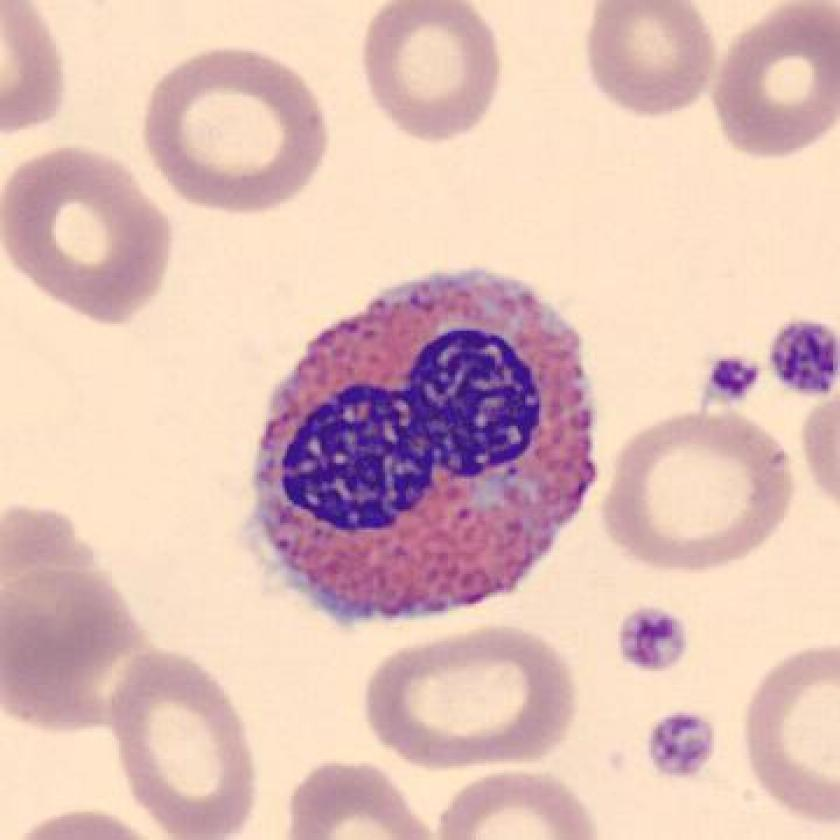eosinophil: (237, 254, 617, 638)
